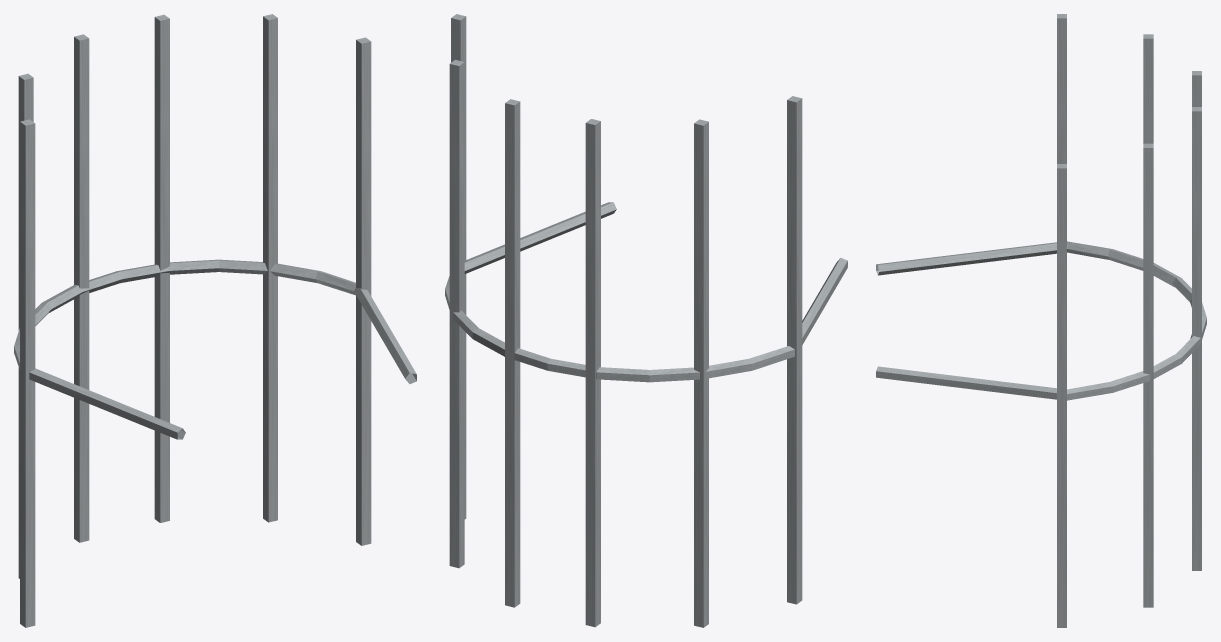
Rendered from body.obj.
3 views of the same model, side by side, from view 1: azimuth 30°, elevation 25°; view 2: azimuth 150°, elevation 25°; view 3: azimuth 270°, elevation 25° (orthographic). The views are drawn at different scales.
Bounding box in the file's own units: 0.7201 × 1 × 0.6524.
